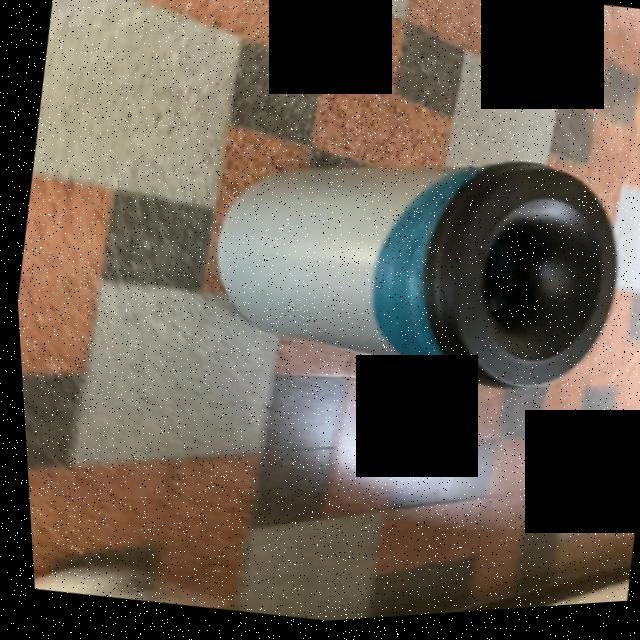bin: (156, 97, 640, 443)
